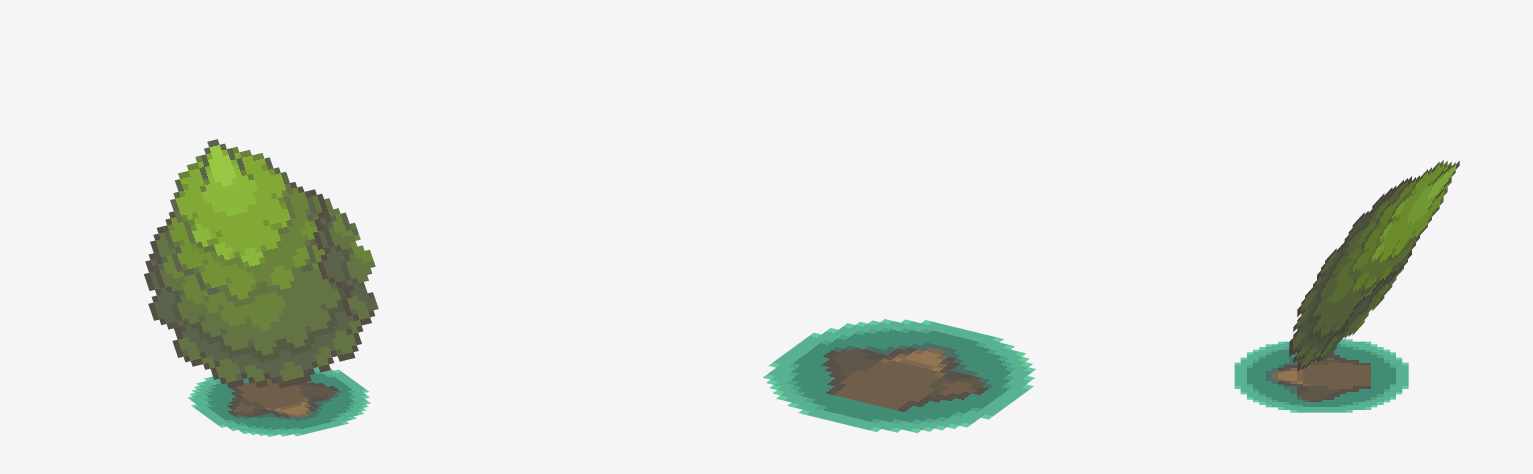
File: hgss-arbre-entier-foret-dense.glb
3 views of the same model, side by side, from view 1: azimuth 30°, elevation 25°; view 2: azimuth 150°, elevation 25°; view 3: azimuth 270°, elevation 25° (orthographic). The views are drawn at different scales.
Size of the model in its own units: 4 by 3.08 by 2.99.
2 materials, 2 textured.
